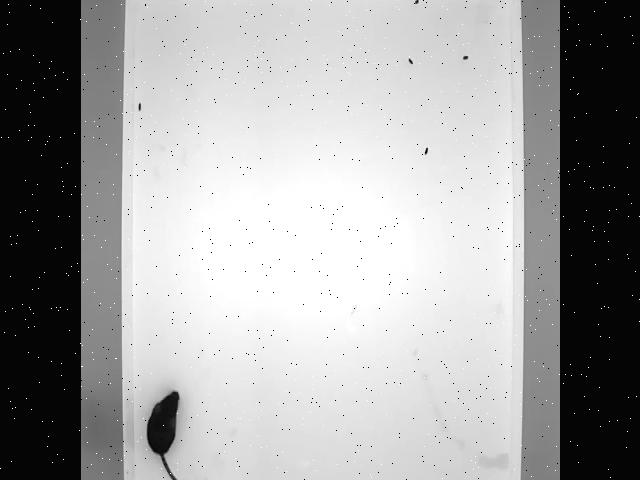Tikus: (141, 374, 218, 480)
